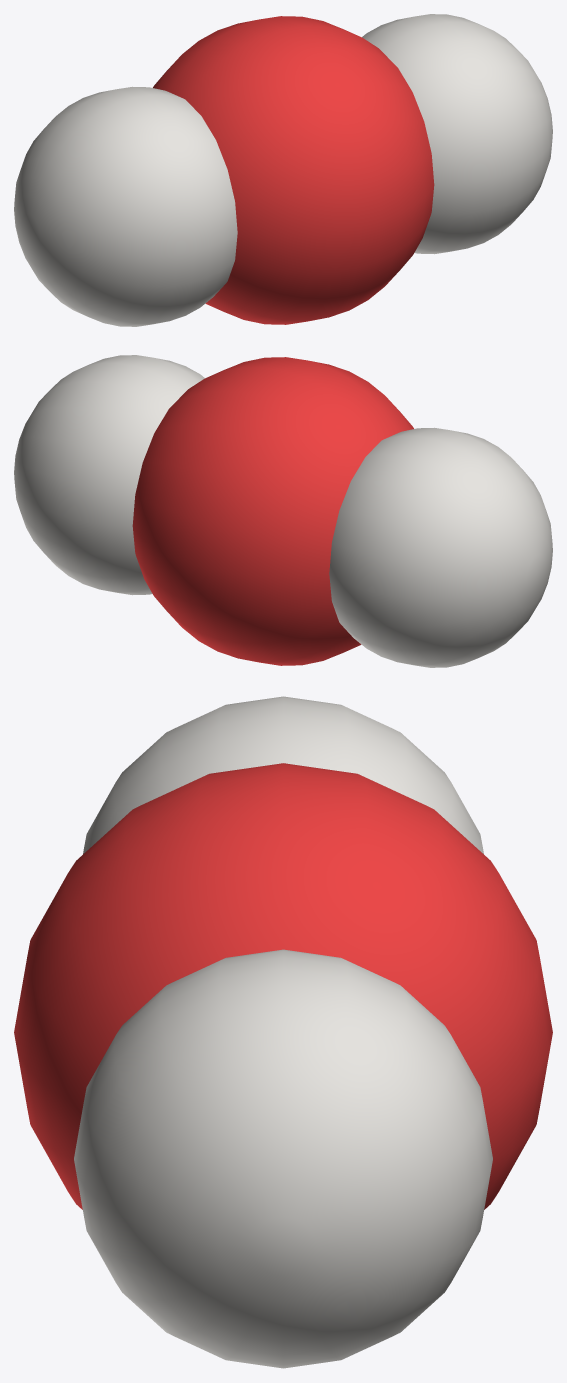
The model's file is sw_swjj_shui.fbx.
3 renders of one model, top to bottom at view 1: azimuth 30°, elevation 25°; view 2: azimuth 150°, elevation 25°; view 3: azimuth 270°, elevation 25°, orthographic. The views are drawn at different scales.
Visible parts, largest first — view 1: sw_swjj_shui; view 2: sw_swjj_shui; view 3: sw_swjj_shui.
Boxes of the visible parts, box(x1,y1,x2,y2) form: sw_swjj_shui: box(14, 14, 552, 326); sw_swjj_shui: box(14, 355, 552, 667); sw_swjj_shui: box(14, 696, 552, 1368).
Bounding box in the file's own units: 3.4 × 1.8 × 1.8.
